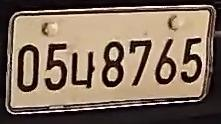0: (16, 42, 40, 94)
5: (41, 40, 71, 94), (180, 35, 203, 84)
6: (154, 36, 179, 87)
7: (126, 37, 155, 88)
8: (99, 36, 128, 90)
나: (69, 45, 99, 93)
